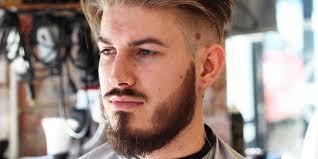b.y: (107, 88, 151, 154)
